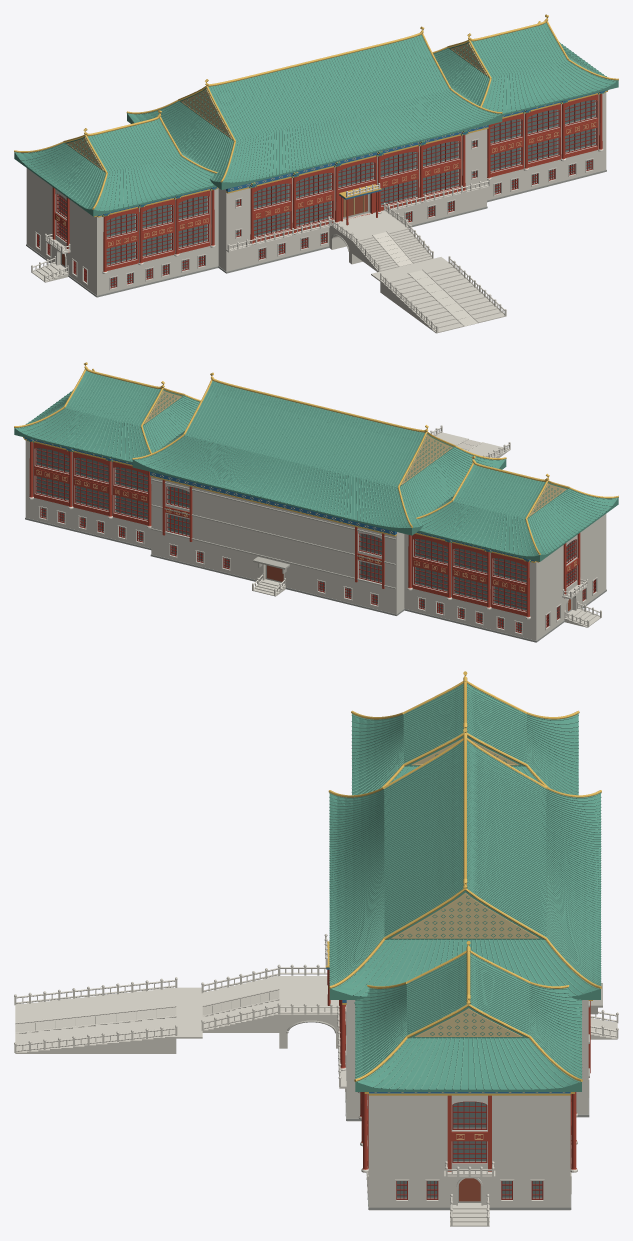
Rendered from yangpu-former-shanghai-city-hall-web.glb.
3 views of the same model, one above another, from view 1: azimuth 30°, elevation 25°; view 2: azimuth 150°, elevation 25°; view 3: azimuth 270°, elevation 25° (orthographic). The views are drawn at different scales.
Parts seen in each view (by area): view 1: 原上海特别市政府大楼（绿瓦大楼）外观候选; view 2: 原上海特别市政府大楼（绿瓦大楼）外观候选; view 3: 原上海特别市政府大楼（绿瓦大楼）外观候选.
Part boxes in pixels (x1=…): 原上海特别市政府大楼（绿瓦大楼）外观候选: x1=14, y1=14, x2=618, y2=333; 原上海特别市政府大楼（绿瓦大楼）外观候选: x1=14, y1=362, x2=618, y2=642; 原上海特别市政府大楼（绿瓦大楼）外观候选: x1=14, y1=671, x2=618, y2=1226.
Bounding box in the file's own units: 105 × 28.36 × 68.83.
